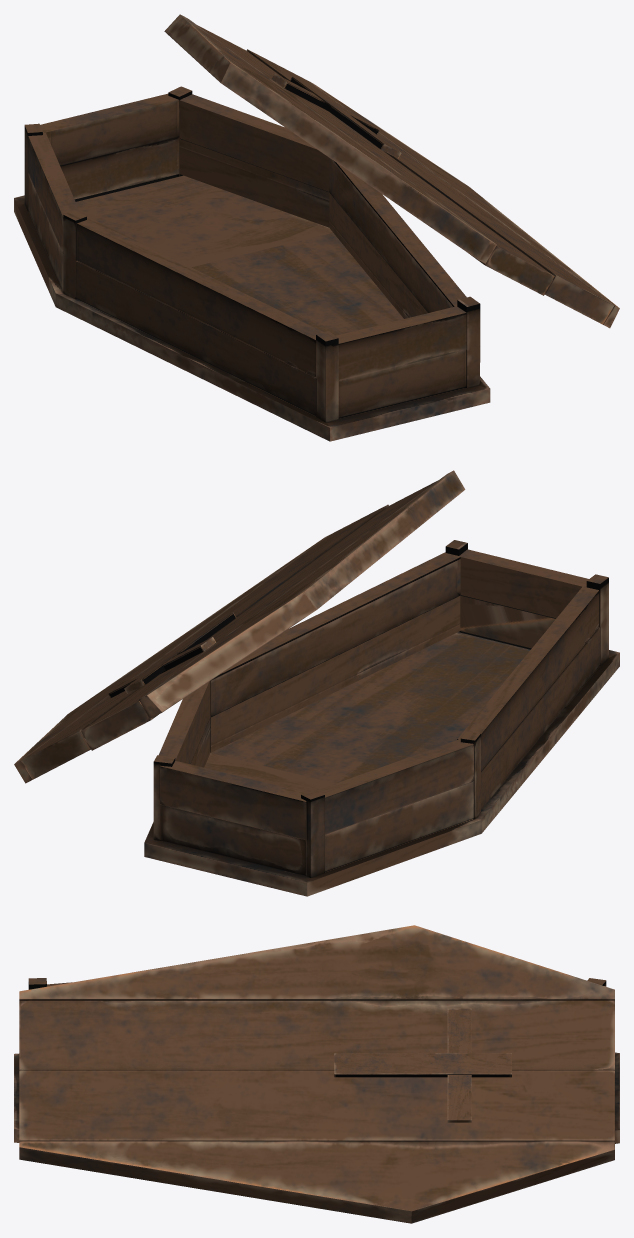
The model's file is SM_Coffin_LidSide.fbx.
3 views of the same model, one above another, from view 1: azimuth 30°, elevation 25°; view 2: azimuth 150°, elevation 25°; view 3: azimuth 270°, elevation 25° (orthographic). The views are drawn at different scales.
Parts seen in each view (by area): view 1: SM_Coffin_Lidless, SM_Coffin_Closed_LP.001; view 2: SM_Coffin_Lidless, SM_Coffin_Closed_LP.001; view 3: SM_Coffin_Closed_LP.001, SM_Coffin_Lidless.
Part boxes in pixels (x1,y1,x2,y2): SM_Coffin_Lidless: (14,86,490,441); SM_Coffin_Closed_LP.001: (164,14,619,328); SM_Coffin_Lidless: (144,540,619,896); SM_Coffin_Closed_LP.001: (14,470,465,783); SM_Coffin_Closed_LP.001: (19,925,614,1223); SM_Coffin_Lidless: (14,978,619,1143).
Bounding box in the file's own units: 1.59 × 0.7356 × 2.09.
